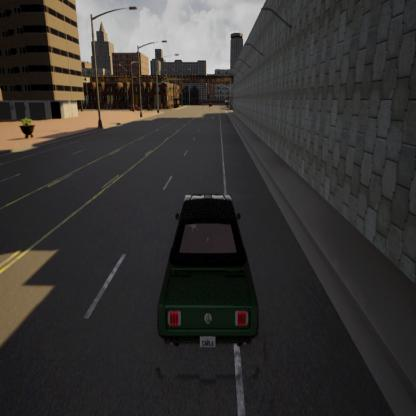Cars: (147, 172, 263, 358)
